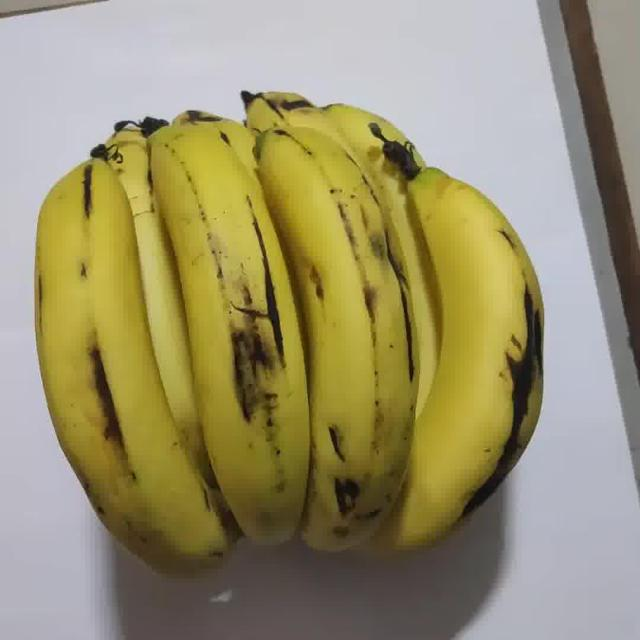Banana: (36, 91, 543, 573)
